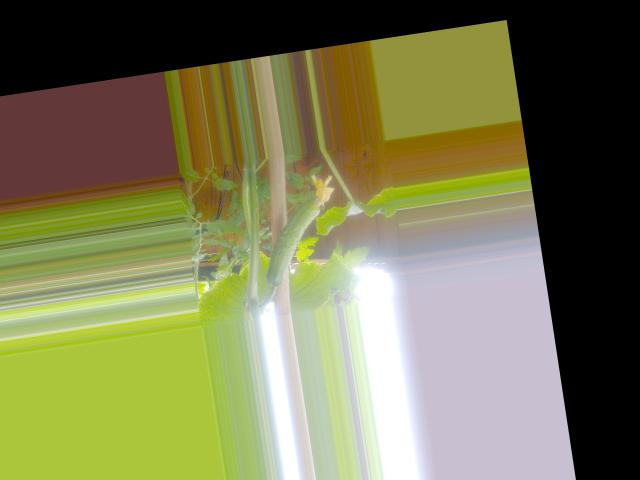cucumber: (252, 171, 348, 287)
